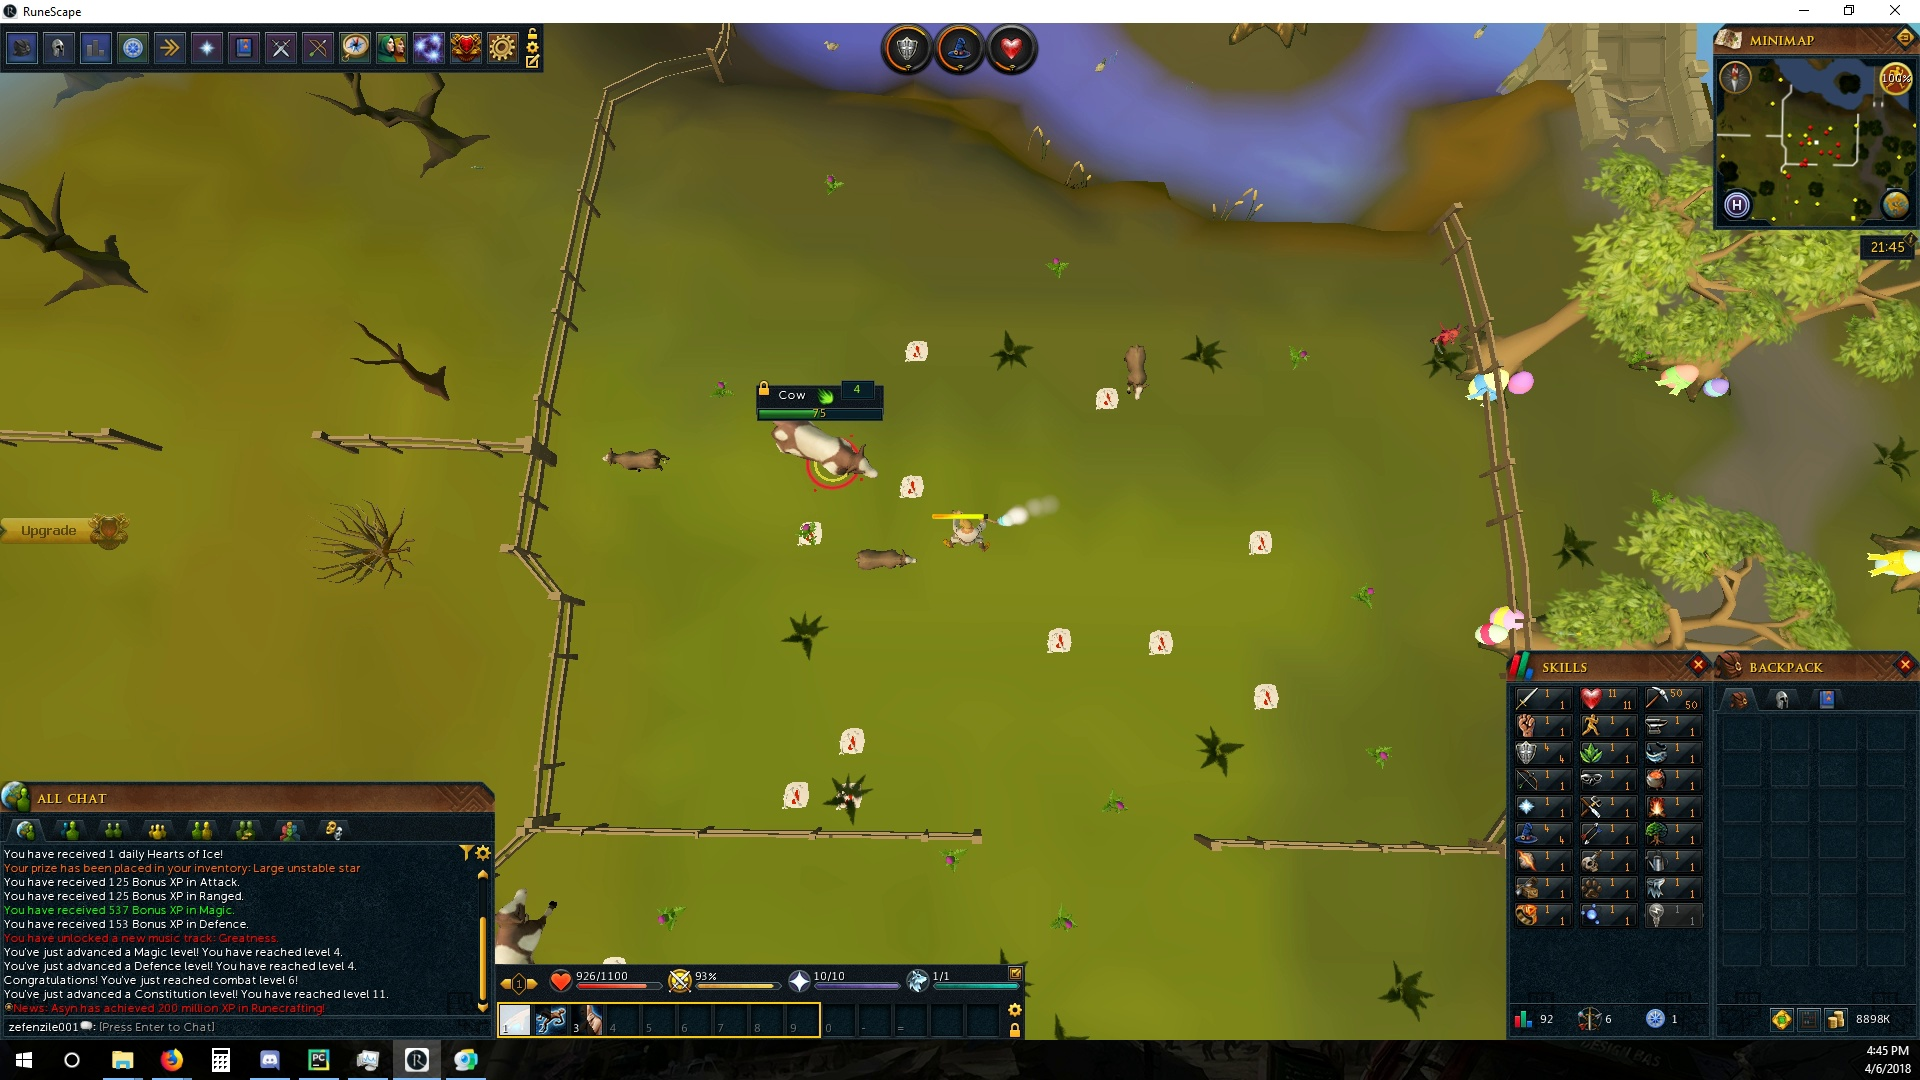calf: (603, 443, 675, 475), (855, 547, 922, 574), (1124, 340, 1150, 404)
cow: (761, 421, 886, 489)
cow_drop: (1091, 381, 1122, 411), (781, 779, 811, 810), (1250, 680, 1280, 711), (833, 781, 862, 812), (839, 727, 869, 756), (1247, 527, 1275, 558), (796, 520, 824, 549), (897, 473, 927, 500), (1145, 632, 1175, 657), (899, 339, 931, 363), (1048, 626, 1073, 651)
